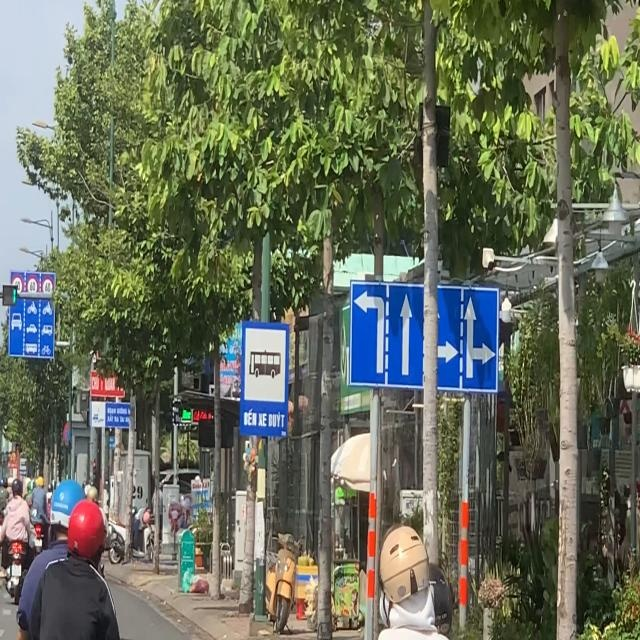bien_cam: (238, 318, 290, 441), (11, 274, 24, 298), (26, 275, 39, 298), (41, 276, 54, 298)
